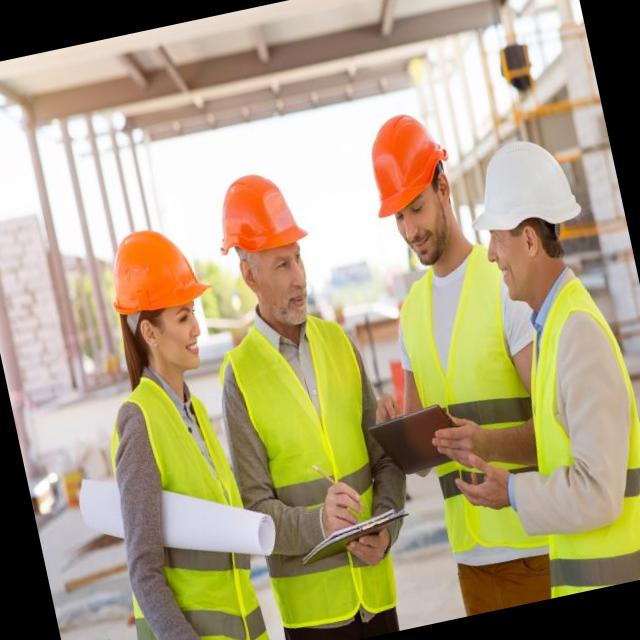Helmet: (99, 218, 220, 335)
Vest: (216, 314, 417, 629)
